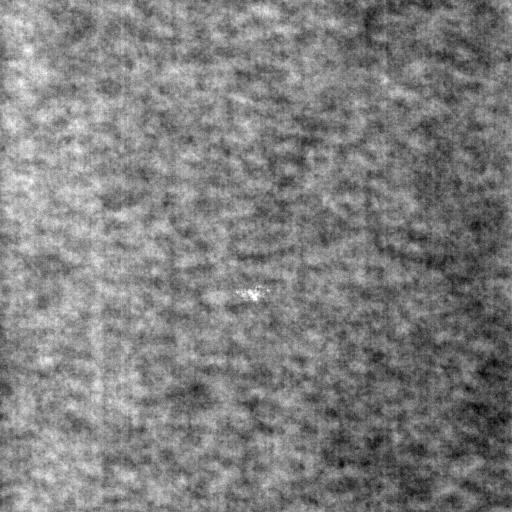DefectTypeA: (238, 286, 266, 303)
